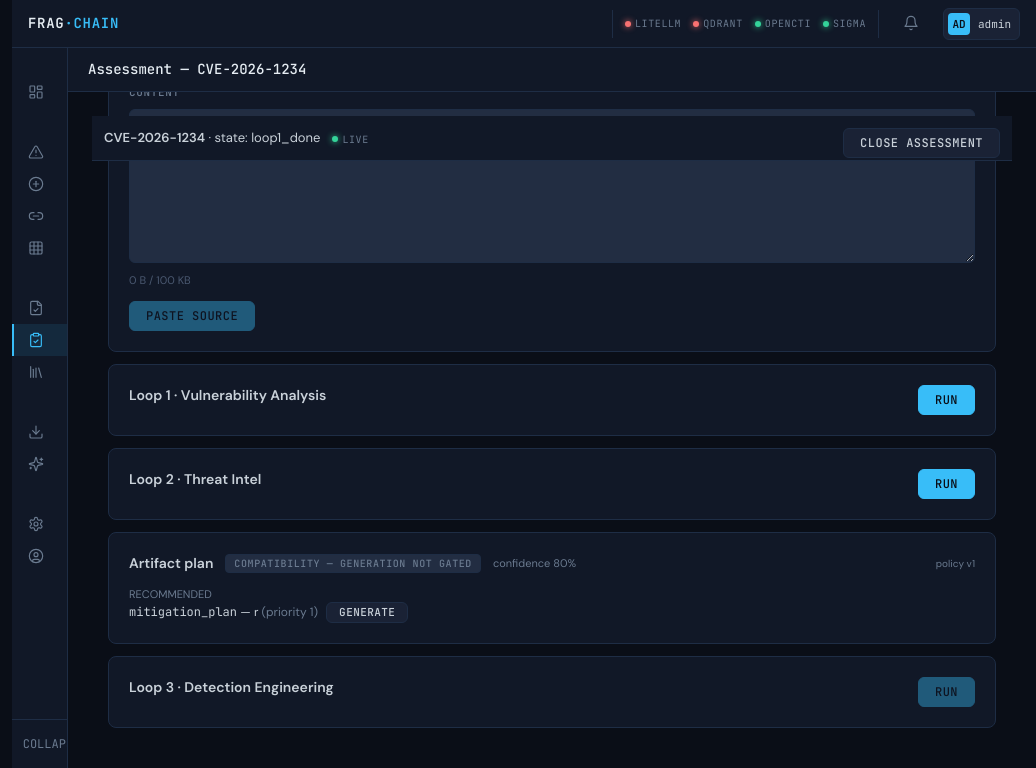
Scenario: AssessmentWorkspace › toasts when generateArtifact rejects (Generate path)
(page scrolled)
Click the button "Generate" at [367, 612], box 326,602 -> 408,623
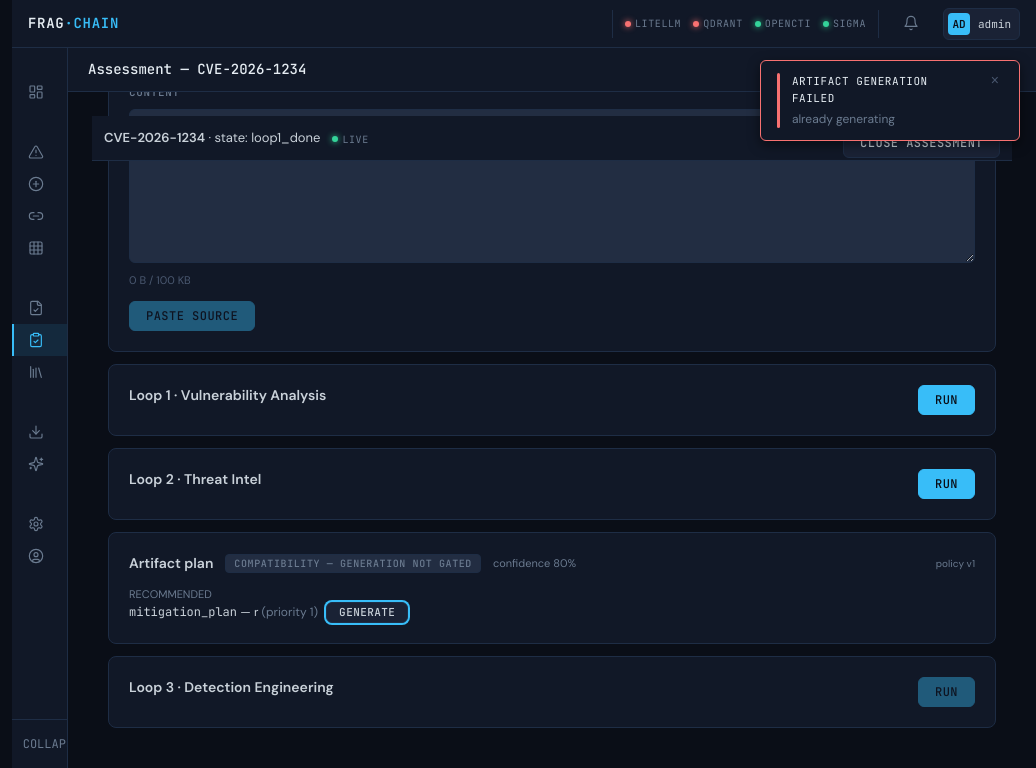
Now the text "already generating" is shown, box 792,111 -> 895,127
